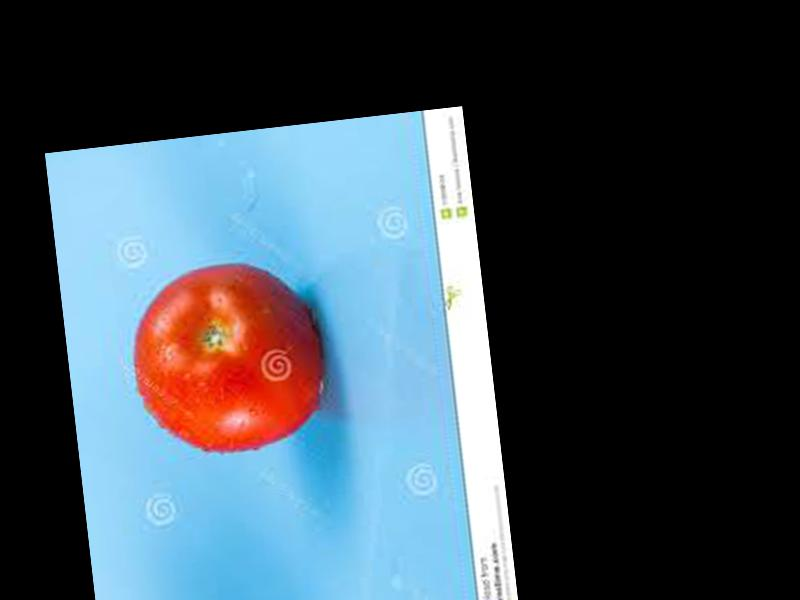Tomato: (124, 252, 329, 462)
